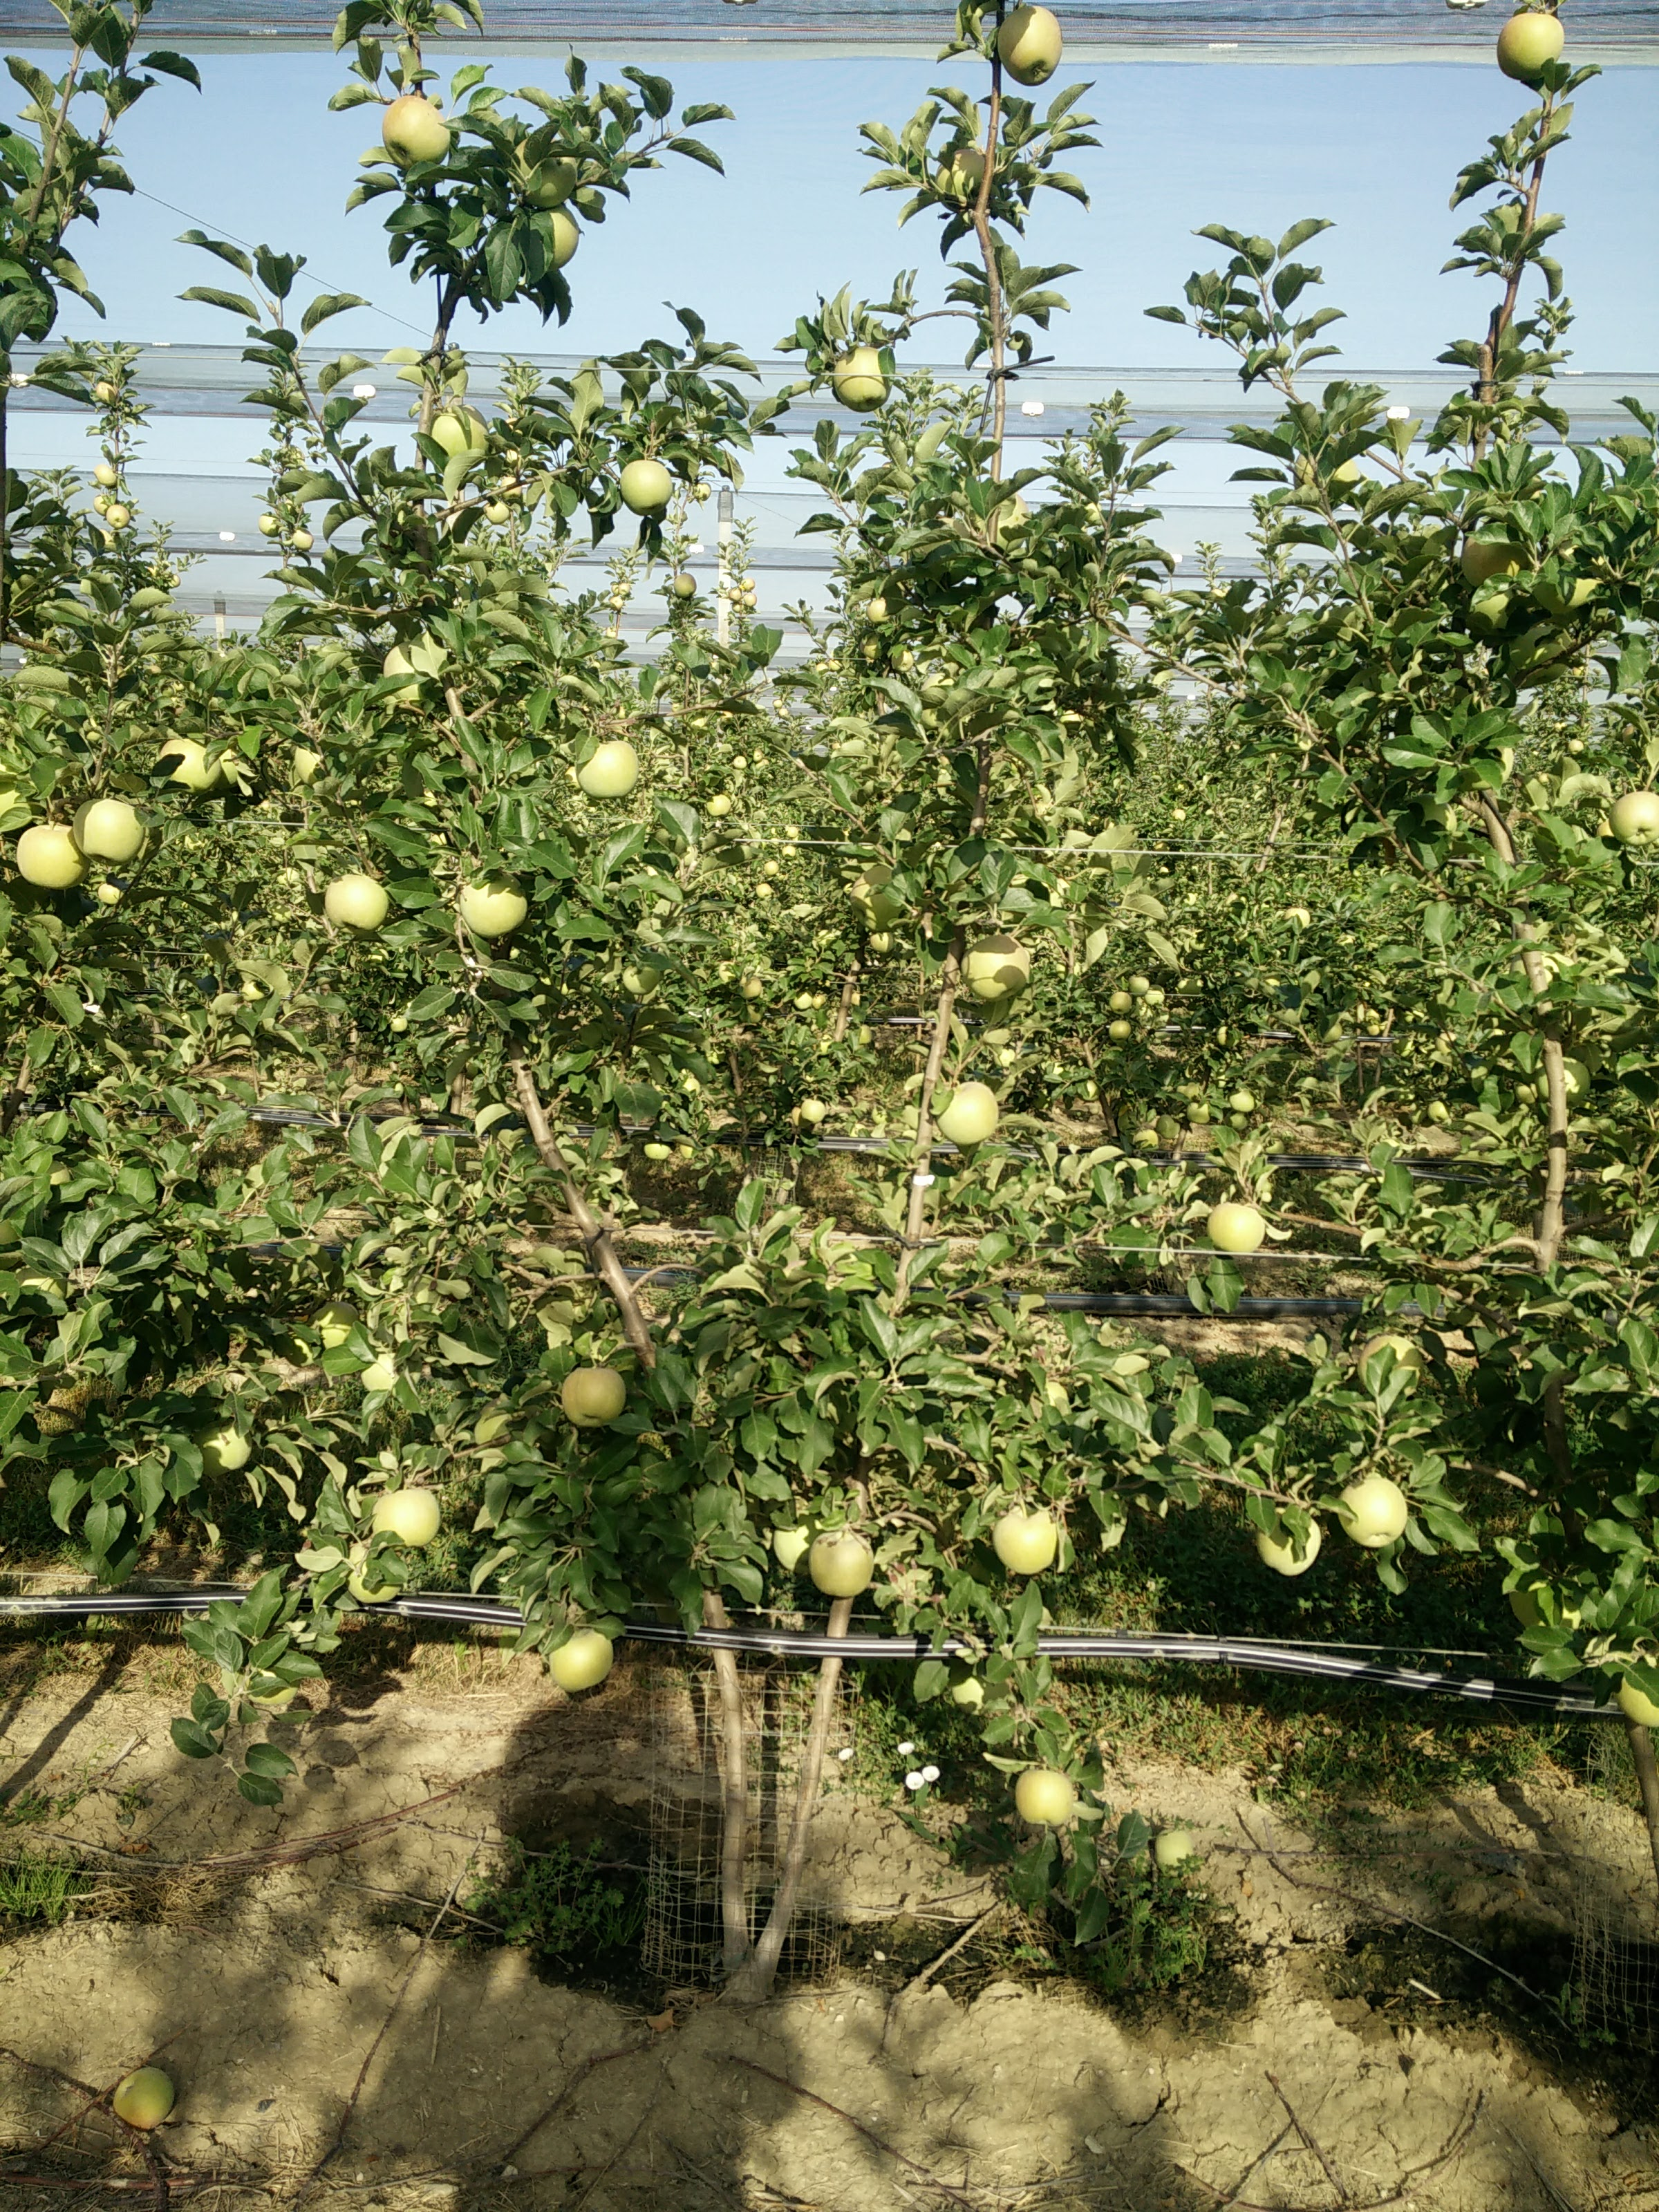apple: (990, 1502, 1068, 1581), (991, 10, 1069, 88), (74, 796, 153, 872), (379, 93, 456, 174), (1499, 9, 1575, 86), (1253, 1506, 1330, 1580), (1335, 1474, 1408, 1553), (364, 1481, 446, 1553), (459, 869, 530, 941), (966, 934, 1039, 1005), (19, 824, 90, 894), (554, 1366, 626, 1433), (805, 1530, 877, 1600), (829, 340, 895, 411), (316, 872, 394, 931), (547, 1631, 621, 1693), (571, 742, 643, 804), (939, 1080, 1003, 1145), (1012, 1769, 1080, 1830), (1205, 1201, 1267, 1257), (610, 461, 677, 512)
